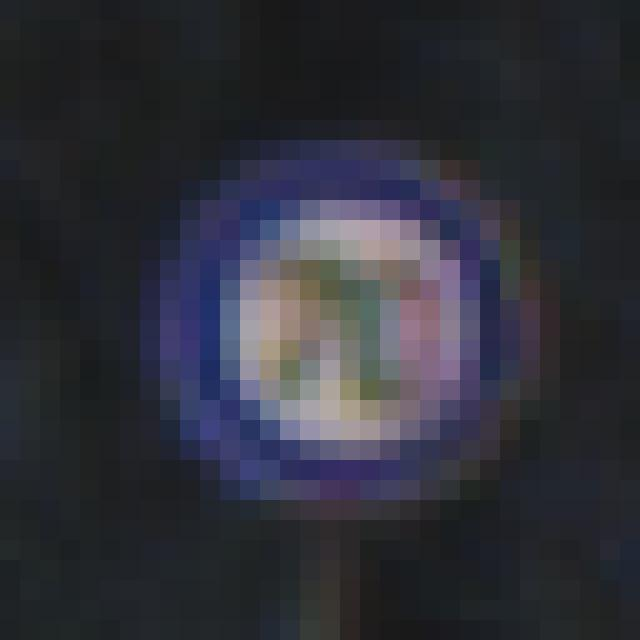SPEED LIMIT 70: (177, 159, 542, 527)
